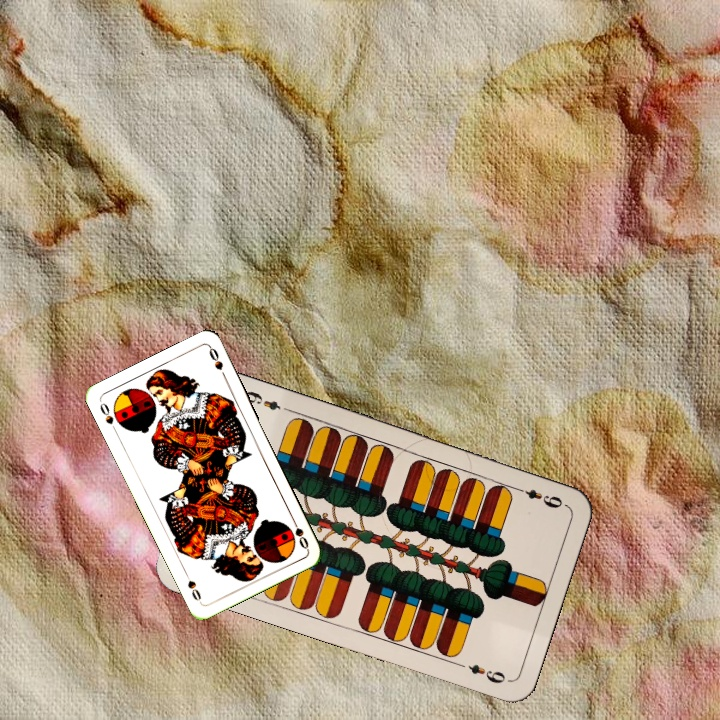E9: (511, 483, 568, 511)
SO: (287, 513, 311, 552), (96, 398, 119, 436)
